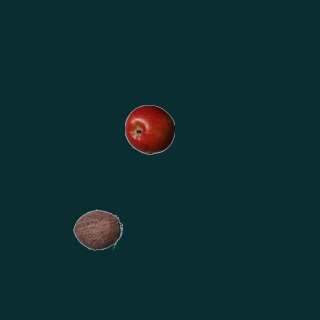Apple Braeburn: (124, 104, 174, 154)
Cocos: (72, 204, 122, 254)
